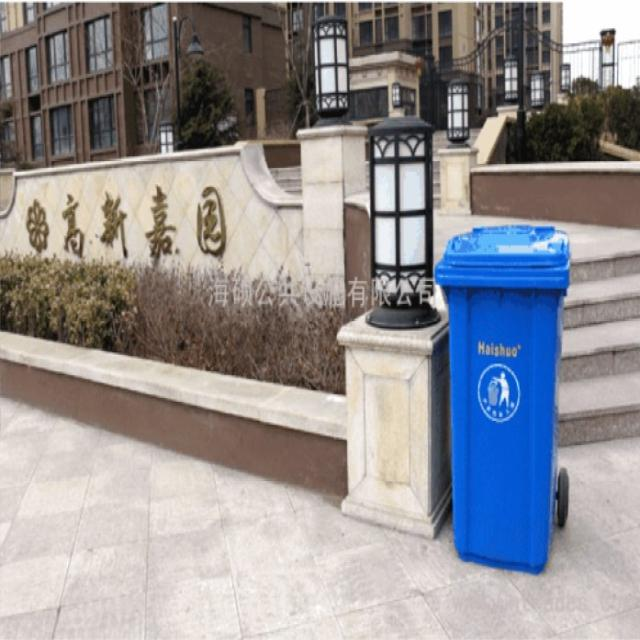garbage_bin: (434, 223, 568, 574)
